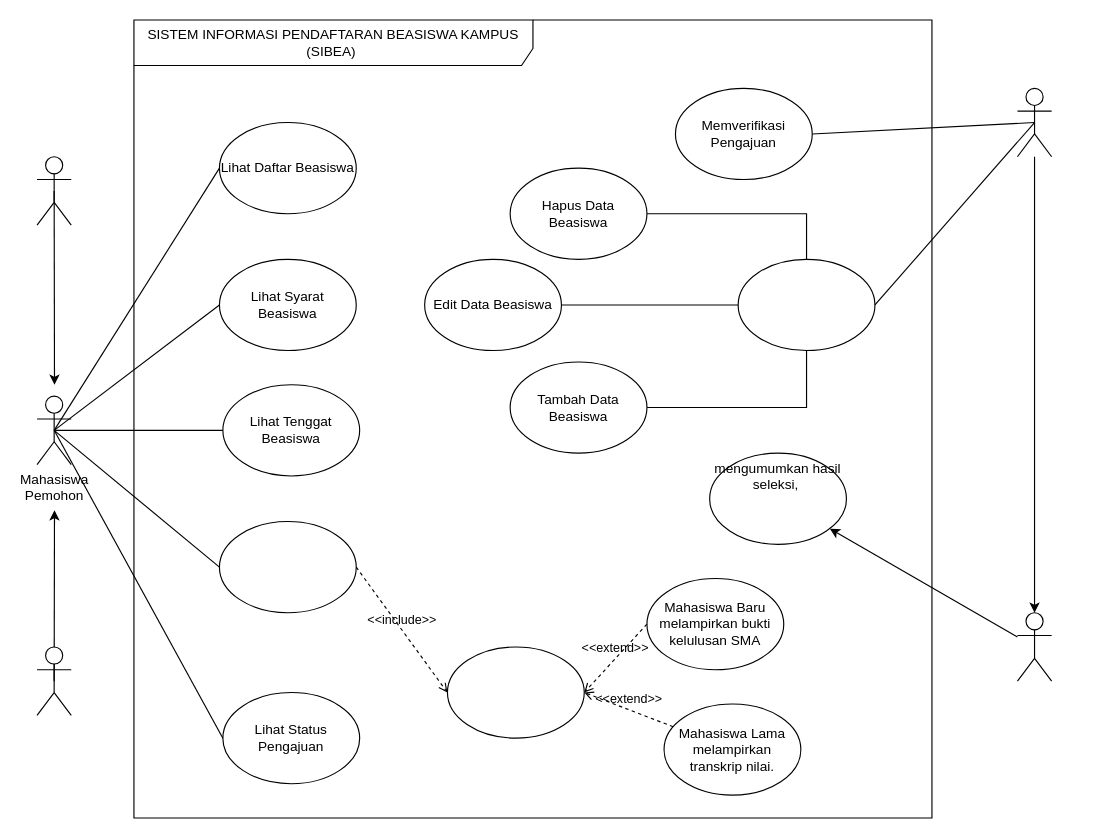
The diagram is 1104 pixels wide and 838 high, and some of its shapes have lost their labels. The centre of each missing label's shape, as x and y in pixels:
Memeriksa Kelengkapan: point (515, 692)
Mengajukan Beasiswa: point (287, 566)
Mengelola Data Beasiswa: point (806, 304)
Mhs. Baru: point (53, 680)
Mhs. Lama: point (53, 190)
Petugas Kemahasiswaan: point (1034, 122)
Tim Seleksi: point (1034, 646)
